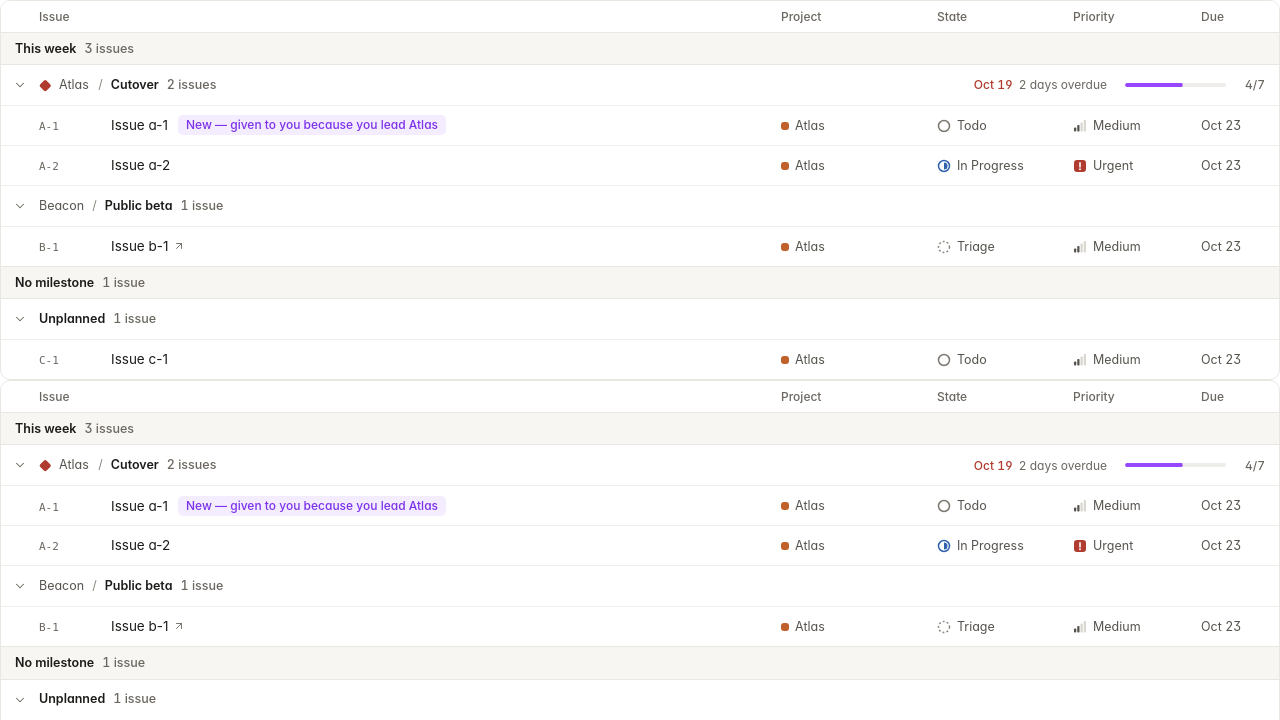
Test: TaskGroupTable review additions › two tables on one key stay in step, and so do other tabs
Later steps or results of the test are not shown.
Click the 1st button named "Atlas, Cutover".
click(20, 85)  # box [9,74,31,96]
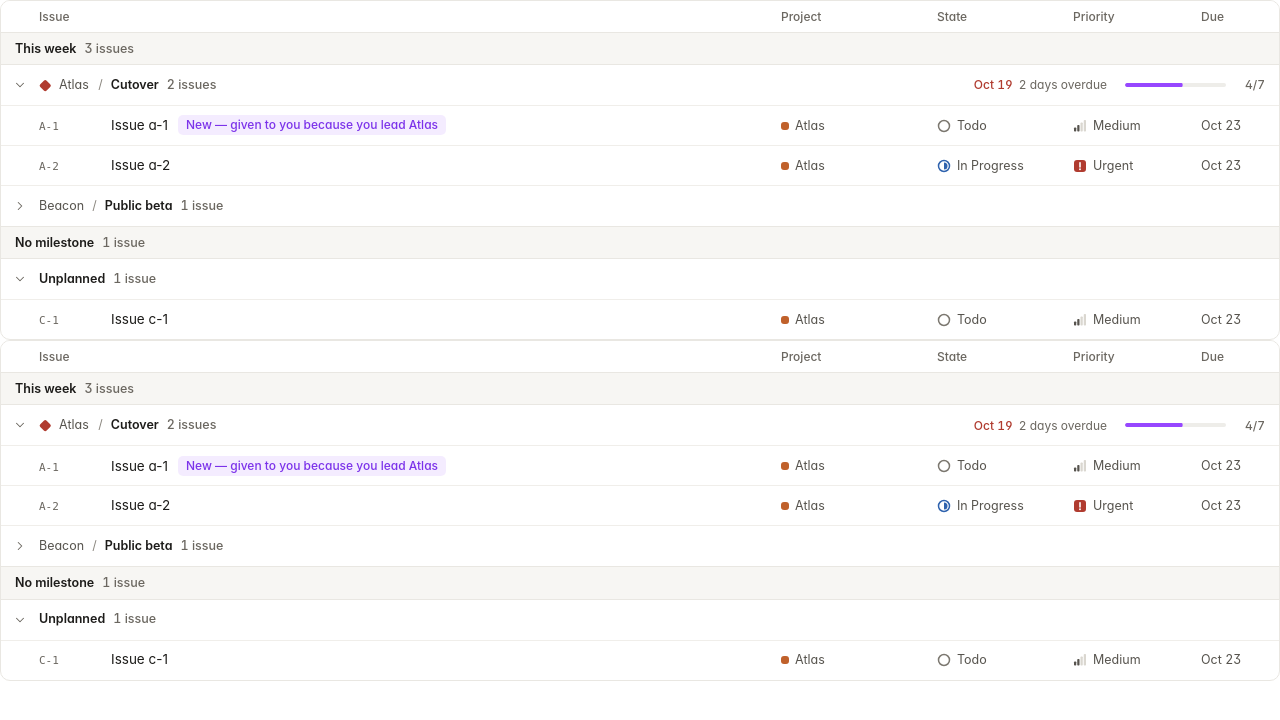
Expected: the 1st button named "Beacon, Public beta" is collapsed, [9,195,31,217]
